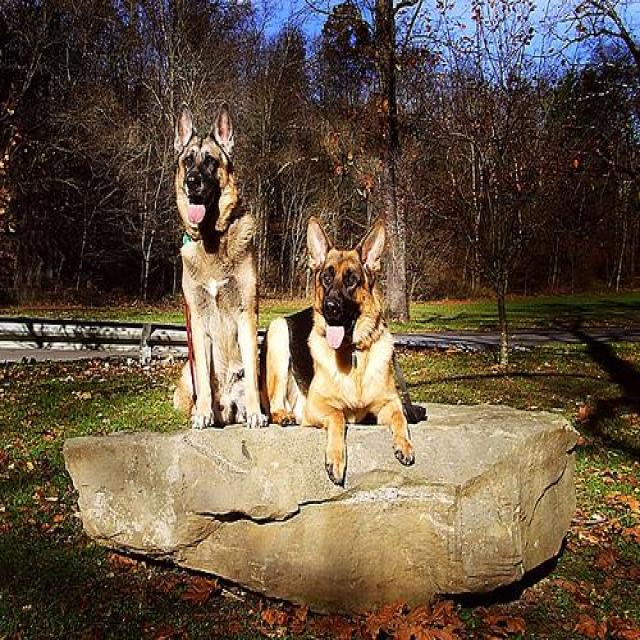happy: (260, 206, 448, 488), (165, 63, 271, 460)
